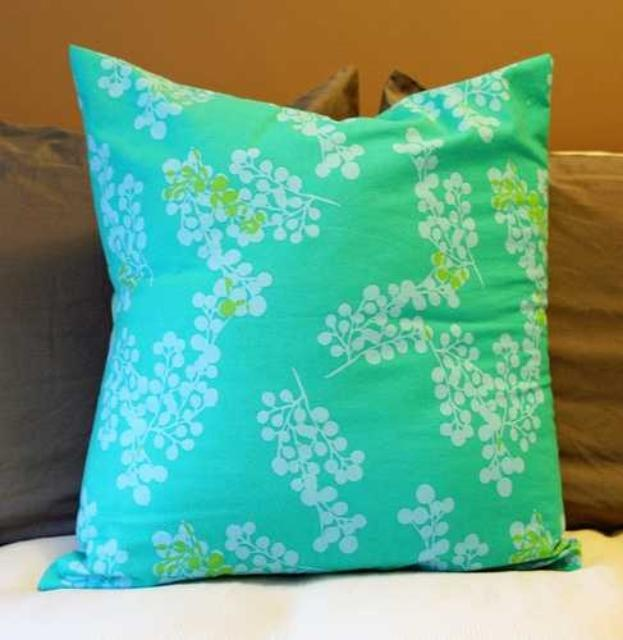pillow: (36, 42, 582, 590)
